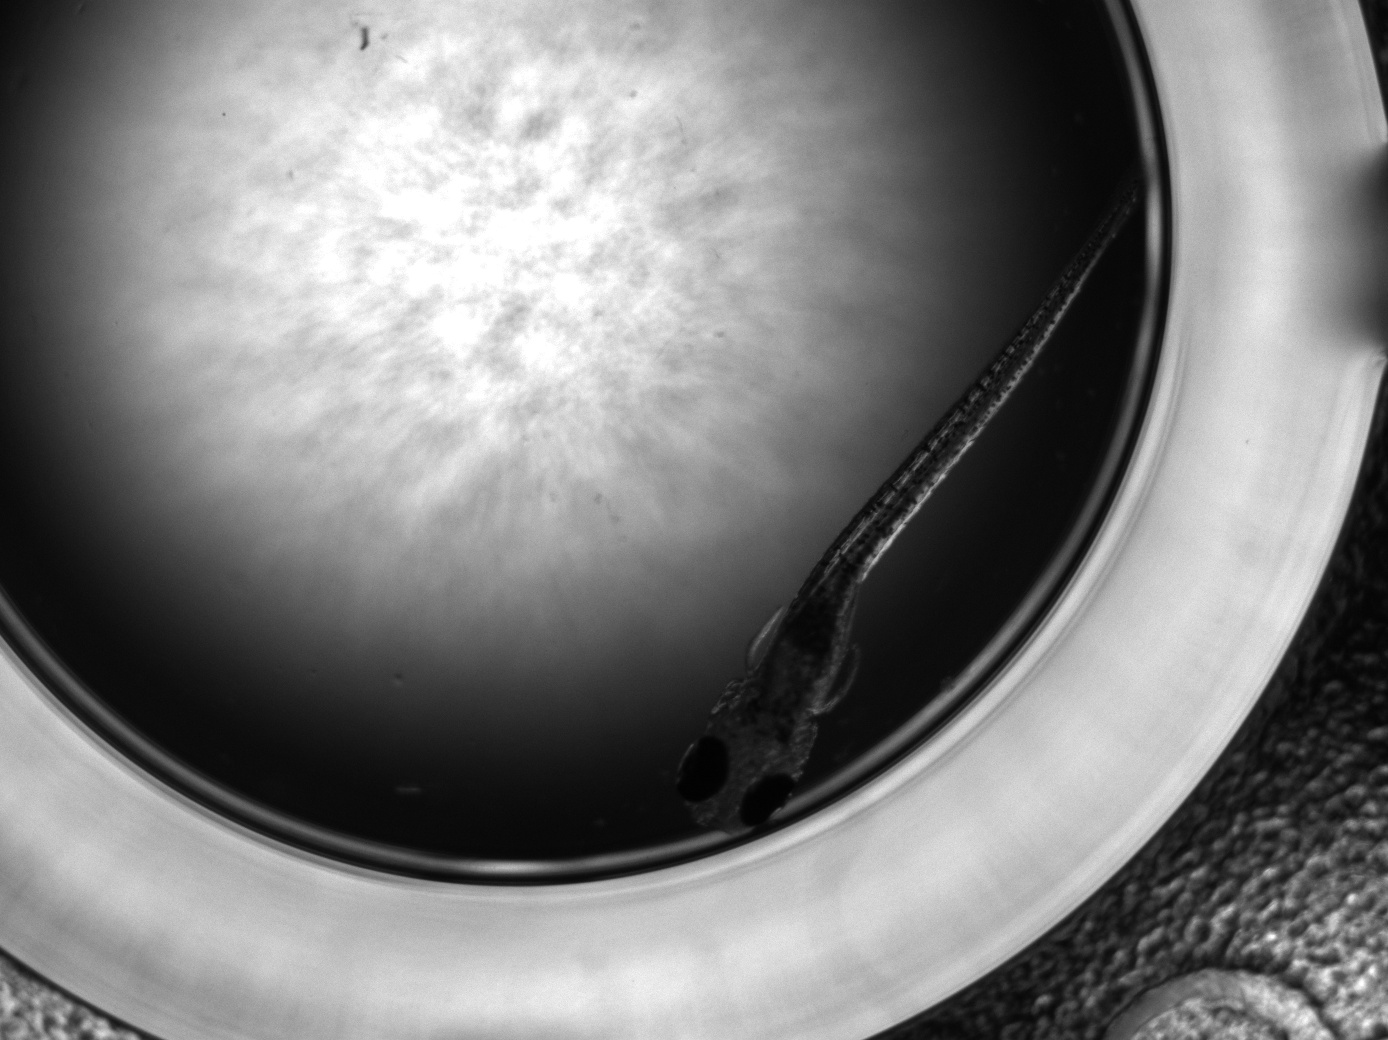embryo: (675, 156, 1151, 836)
eye: (676, 735, 729, 804), (736, 773, 799, 828)
yolksac: (754, 577, 862, 708)
